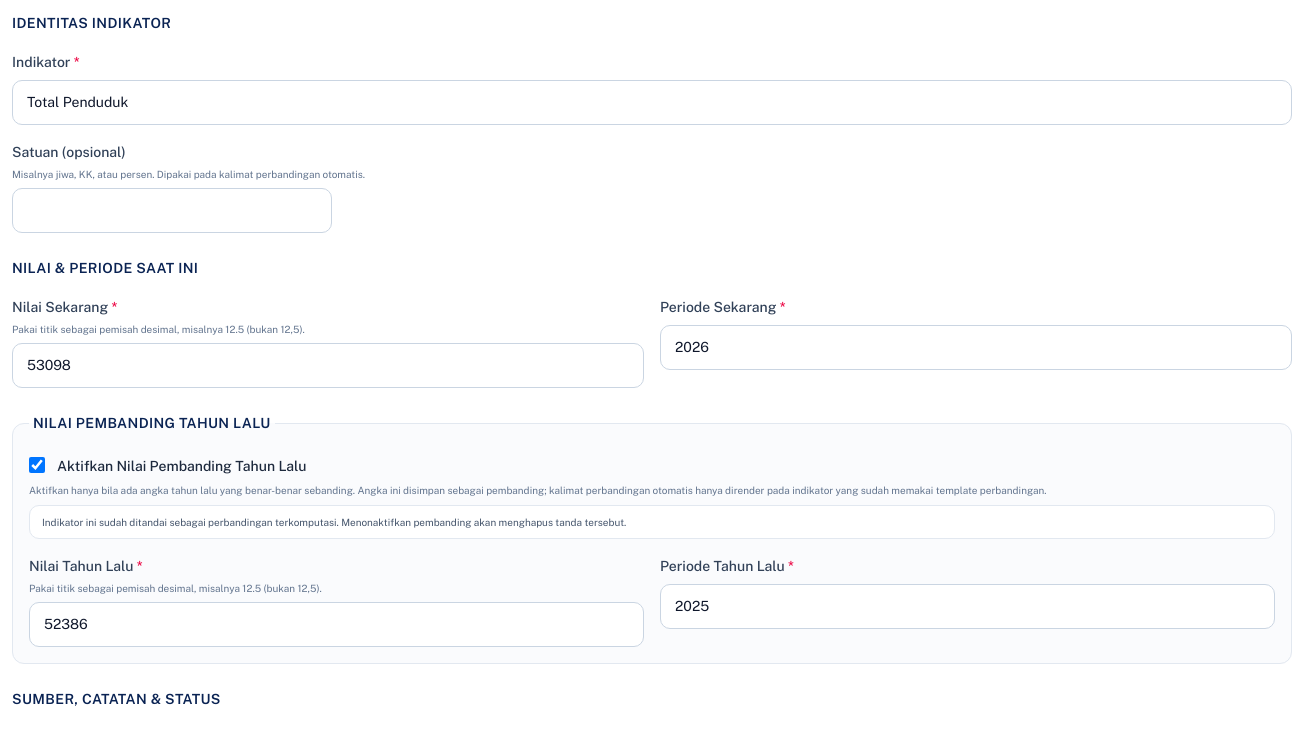
Test case: ScalarIndicatorForm.vue › reveals the previous-year pair only when the comparison checkbox is checked
Expected: the field with id "indicator-value-previous" is shown, [29,602,644,647]
Click the checkbox with id "indicator-comparison-enabled".
click(37, 464)  # box [29,456,45,472]
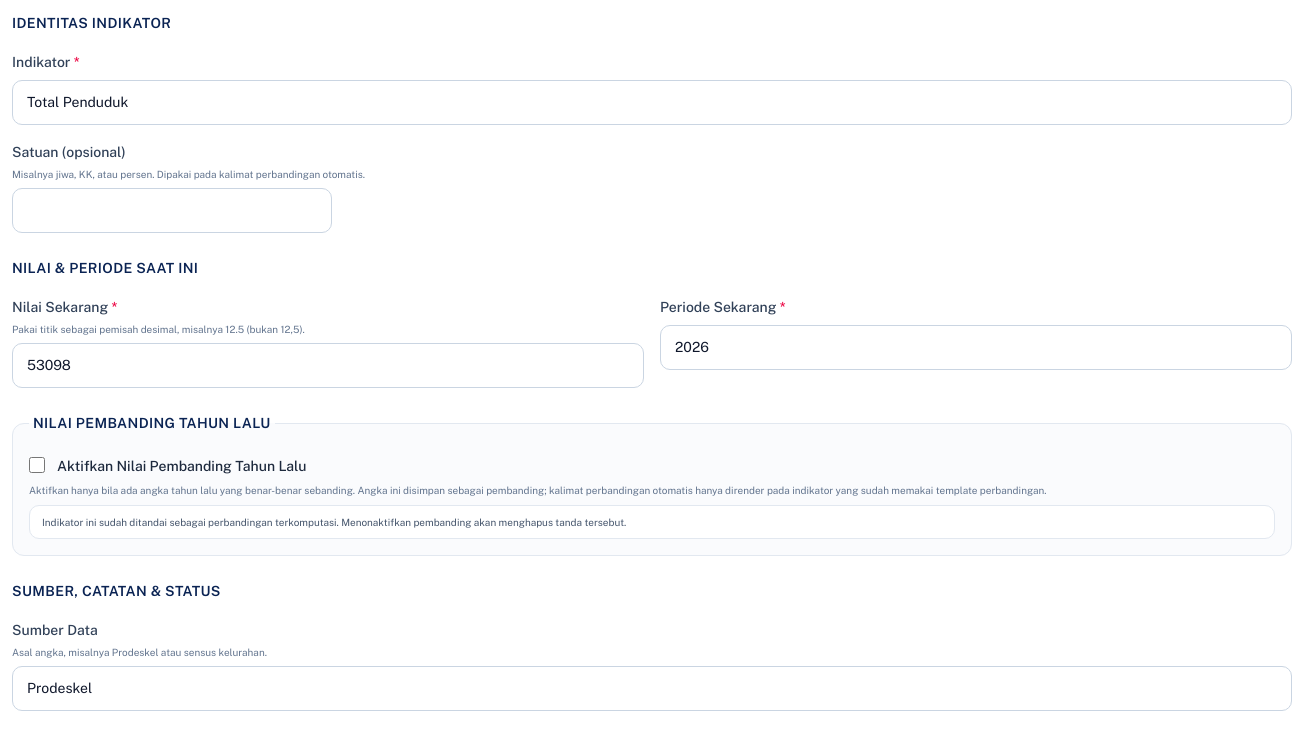
Click the checkbox with id "indicator-comparison-enabled".
click(37, 464)  # box [29,456,45,472]
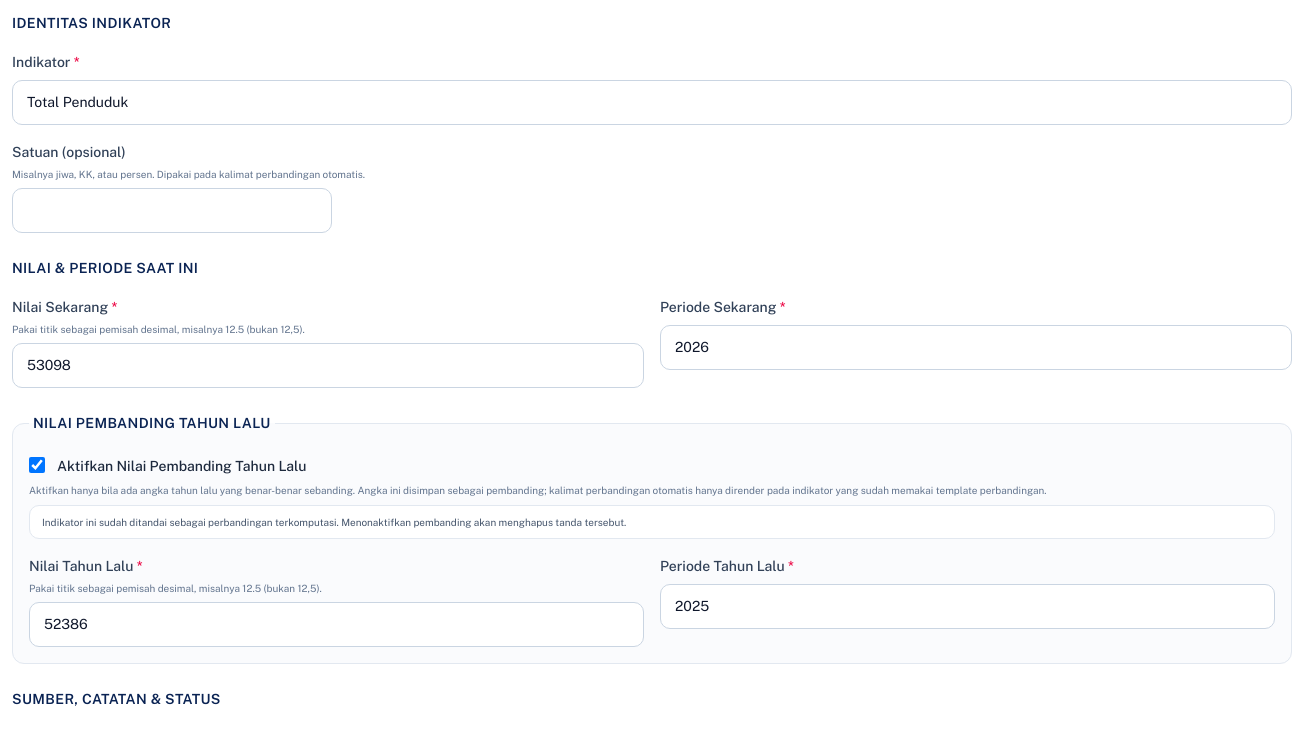
Expected: the field with id "indicator-value-previous" is shown, [29,602,644,647]
